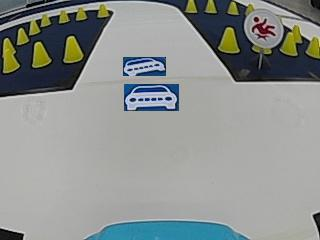cone: (218, 26, 239, 54), (62, 35, 82, 63), (31, 41, 50, 68), (1, 43, 18, 72), (280, 31, 296, 56), (305, 34, 319, 59), (16, 27, 28, 45), (28, 19, 40, 35), (204, 0, 217, 14), (184, 0, 197, 14), (75, 6, 87, 21), (292, 24, 301, 43), (227, 1, 239, 15), (97, 3, 108, 18), (58, 9, 69, 24), (40, 13, 51, 27), (245, 2, 255, 15)
tumble: (250, 15, 278, 41)
